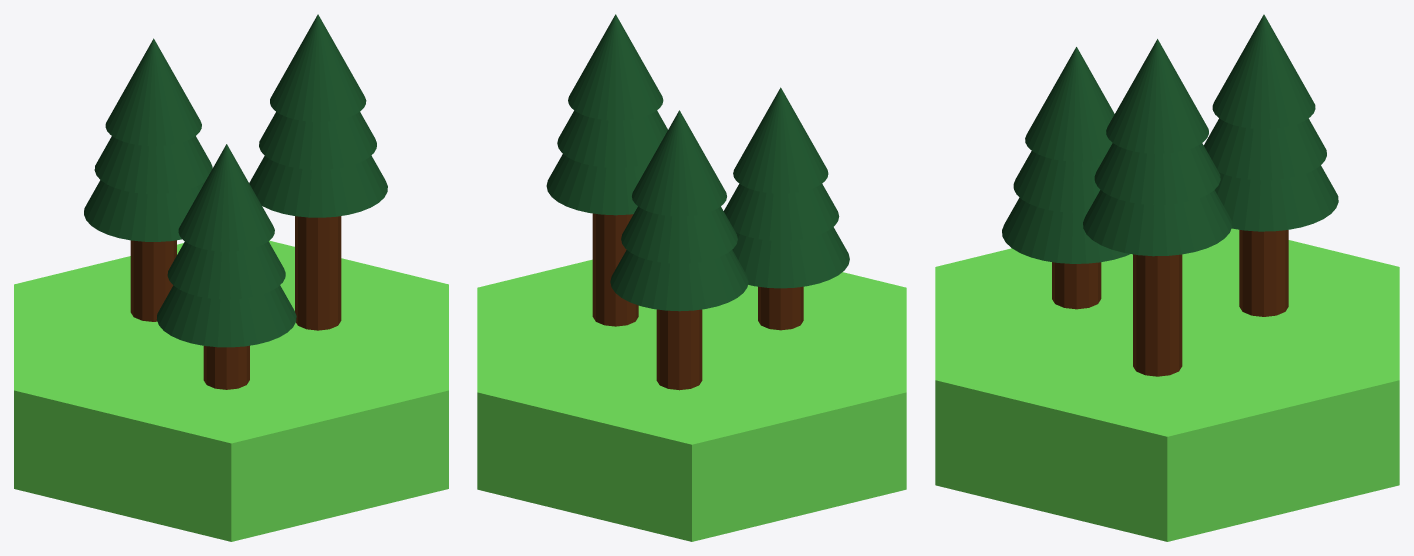
File: forest.glb
3 renders of one model, left to right at view 1: azimuth 30°, elevation 25°; view 2: azimuth 150°, elevation 25°; view 3: azimuth 270°, elevation 25°, orthographic. The views are drawn at different scales.
Parts seen in each view (by area): view 1: mergedBlocks(Clone); view 2: mergedBlocks(Clone); view 3: mergedBlocks(Clone).
Part boxes in pixels (x1,y1,x2,y2): mergedBlocks(Clone): [14, 14, 448, 541]; mergedBlocks(Clone): [477, 14, 906, 541]; mergedBlocks(Clone): [935, 14, 1399, 541].
Bounding box in the file's own units: 1.15 × 1.03 × 1.
